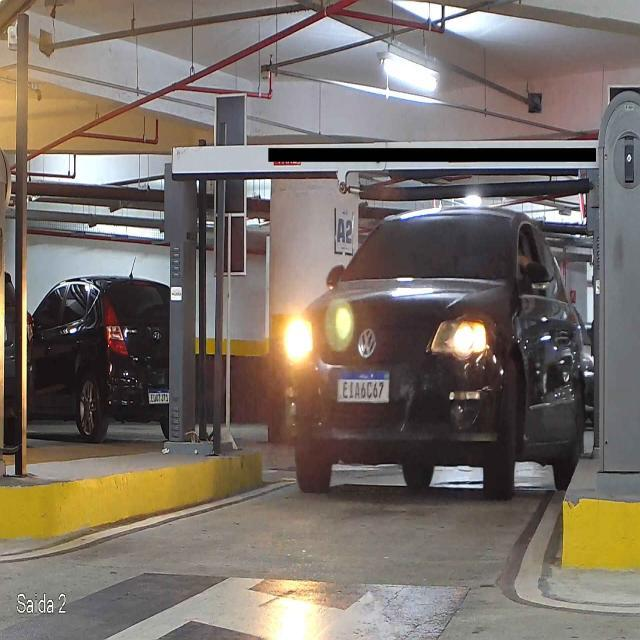mercosul_plate: (334, 369, 392, 406)
